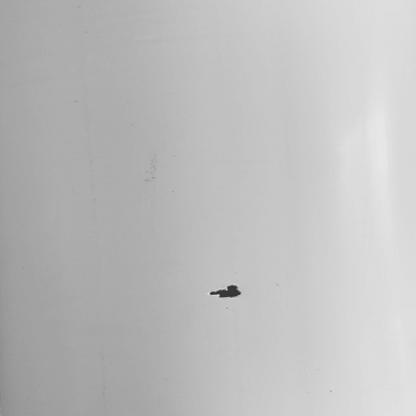kongdong: (209, 282, 250, 304)
